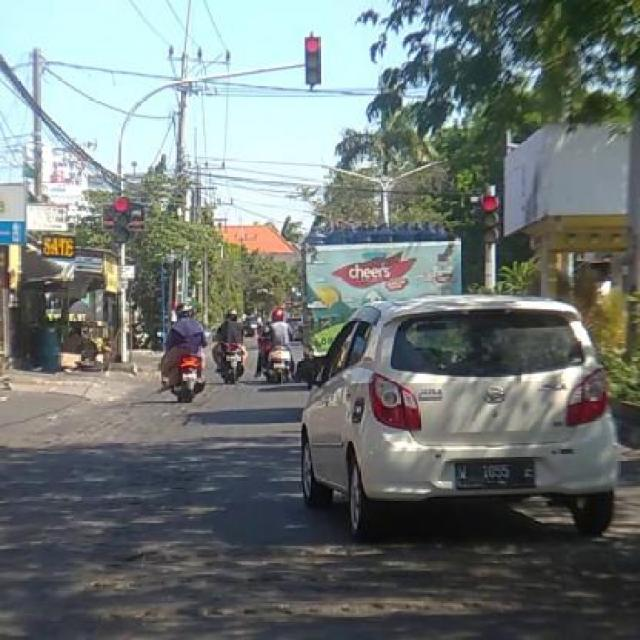traffic light: (113, 192, 133, 246), (480, 192, 500, 240), (306, 34, 322, 88)
